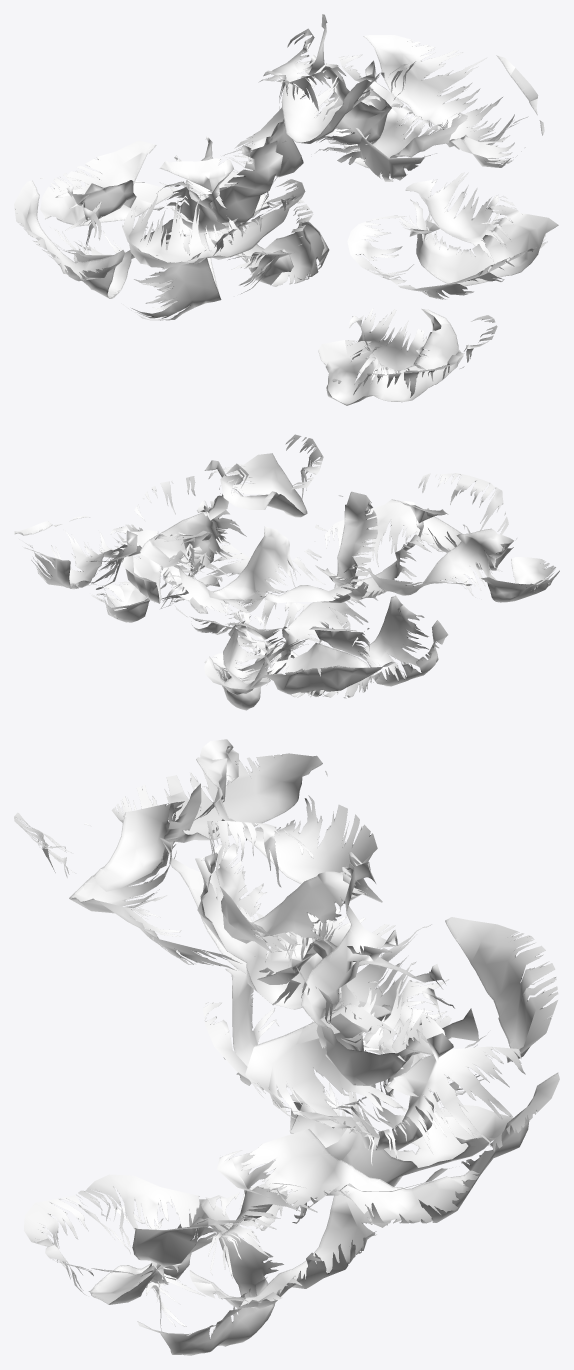
Rendered from SM_ENV_KNFRST_Leaf_GroupC.FBX.
The picture shows the model from 3 angles, top to bottom: view 1: azimuth 30°, elevation 25°; view 2: azimuth 150°, elevation 25°; view 3: azimuth 270°, elevation 25°; orthographic projection. The views are drawn at different scales.
Parts seen in each view (by area): view 1: SM_ENV_KNFRST_Leaf_GroupC; view 2: SM_ENV_KNFRST_Leaf_GroupC; view 3: SM_ENV_KNFRST_Leaf_GroupC.
Part boxes in pixels (box(x1,y1,x2,y2)): SM_ENV_KNFRST_Leaf_GroupC: box(14, 14, 558, 405); SM_ENV_KNFRST_Leaf_GroupC: box(14, 434, 559, 710); SM_ENV_KNFRST_Leaf_GroupC: box(14, 739, 559, 1355).
Bounding box in the file's own units: 11858 × 6756 × 7097.
